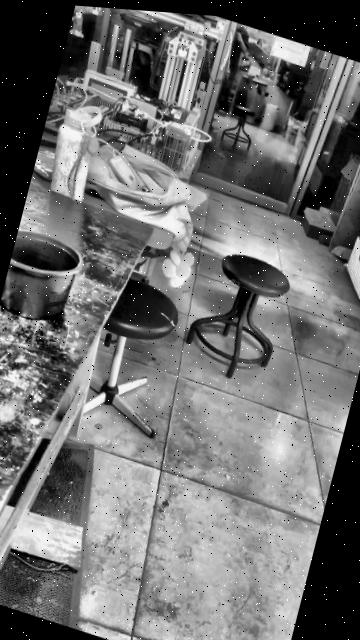pot: (0, 224, 85, 330)
